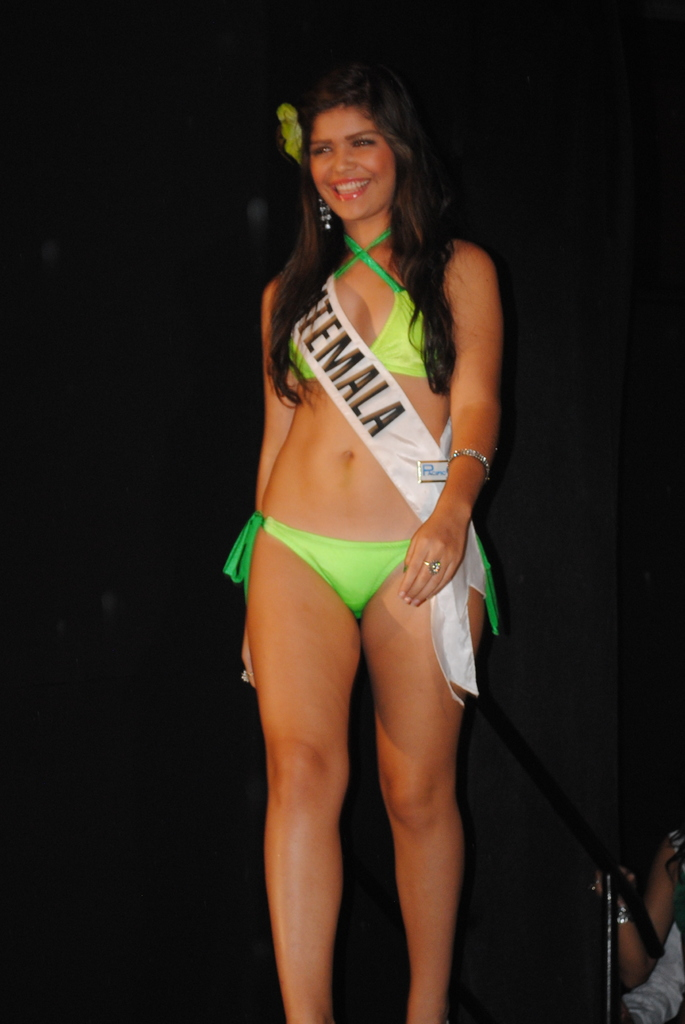Human_hand: (399, 495, 472, 605), (591, 864, 638, 906), (240, 628, 258, 691)
